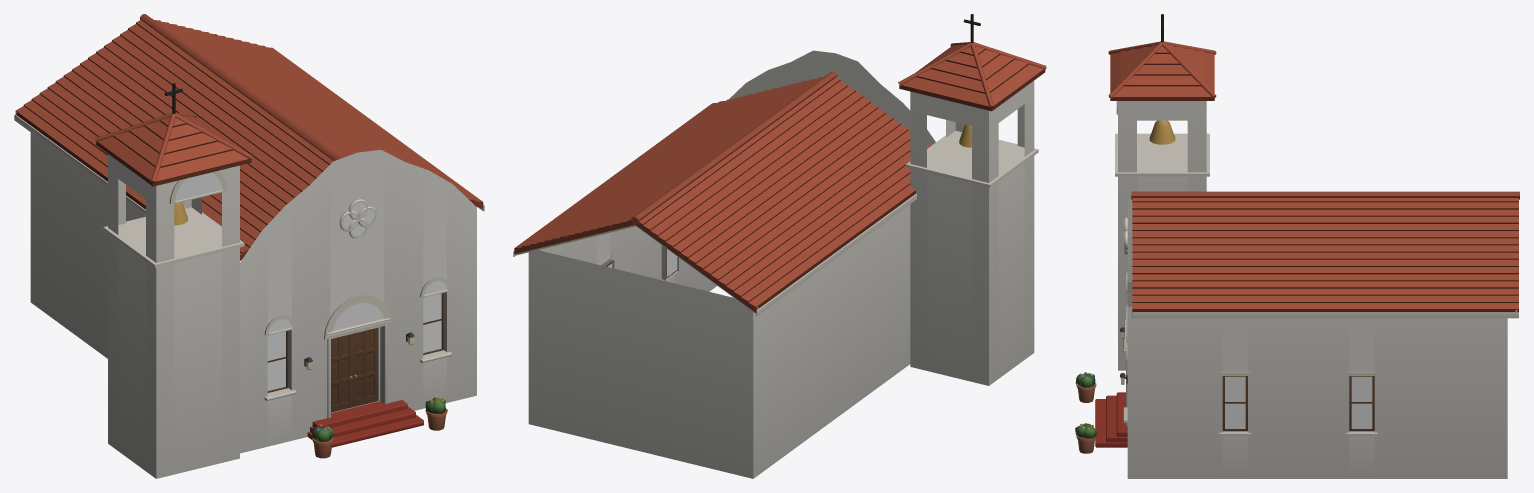
The model's file is ChurchFL.fbx.
3 renders of one model, left to right at view 1: azimuth 30°, elevation 25°; view 2: azimuth 150°, elevation 25°; view 3: azimuth 270°, elevation 25°, orthographic. The views are drawn at different scales.
Parts seen in each view (by area): view 1: ChurchFL; view 2: ChurchFL; view 3: ChurchFL.
Boxes of the visible parts, left/top/right/bottom form: ChurchFL: left=14, top=14, right=484, bottom=478; ChurchFL: left=513, top=14, right=1046, bottom=478; ChurchFL: left=1075, top=14, right=1519, bottom=478.
Bounding box in the file's own units: 11.55 × 11.74 × 14.04.
